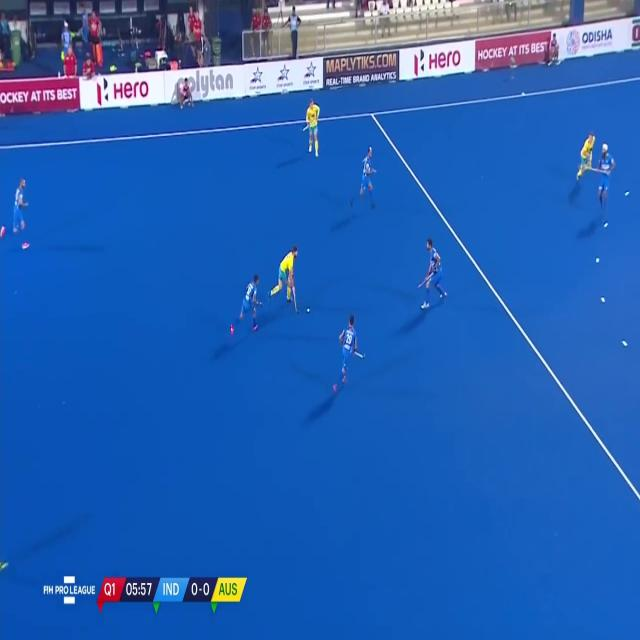ball: (306, 306, 312, 314)
